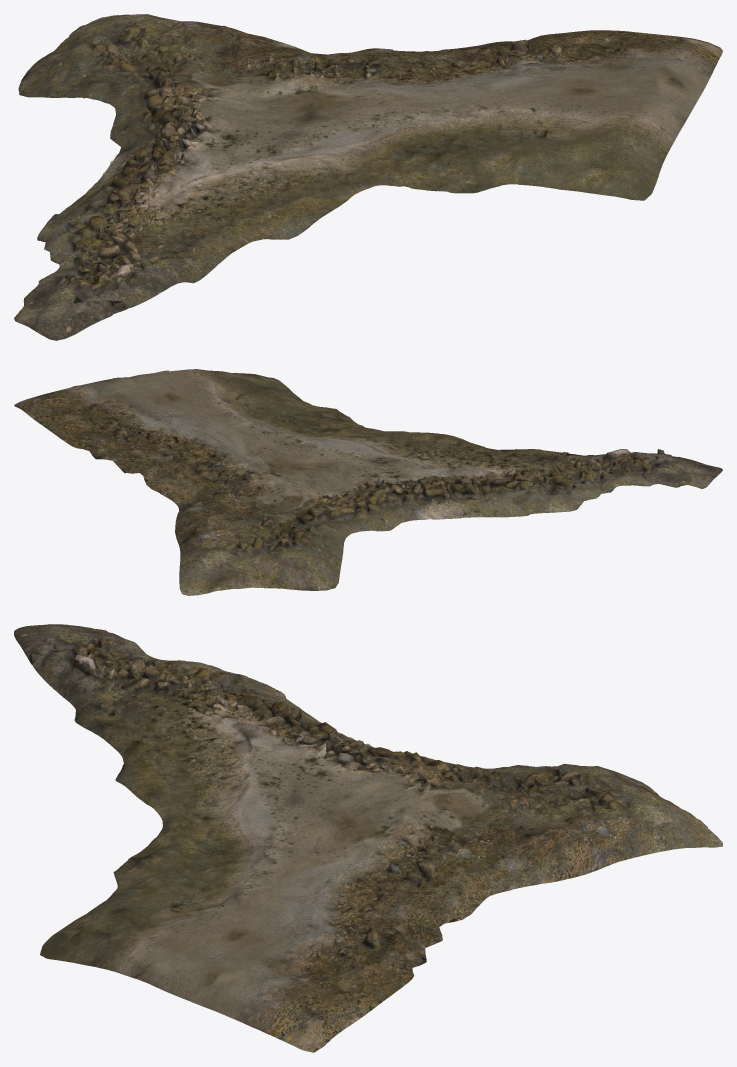
The model's file is coast-rocks.glb.
3 renders of one model, top to bottom at view 1: azimuth 30°, elevation 25°; view 2: azimuth 150°, elevation 25°; view 3: azimuth 270°, elevation 25°, orthographic. The views are drawn at different scales.
Visible parts, largest first — view 1: coast_rocks_01; view 2: coast_rocks_01; view 3: coast_rocks_01.
Boxes of the visible parts, bbox=[...] form: coast_rocks_01: bbox=[14, 14, 722, 340]; coast_rocks_01: bbox=[14, 369, 722, 595]; coast_rocks_01: bbox=[14, 624, 722, 1052].
Size of the model in its own units: 59.51 by 3.29 by 42.52.
Materials: 1 (1 with a texture image).
